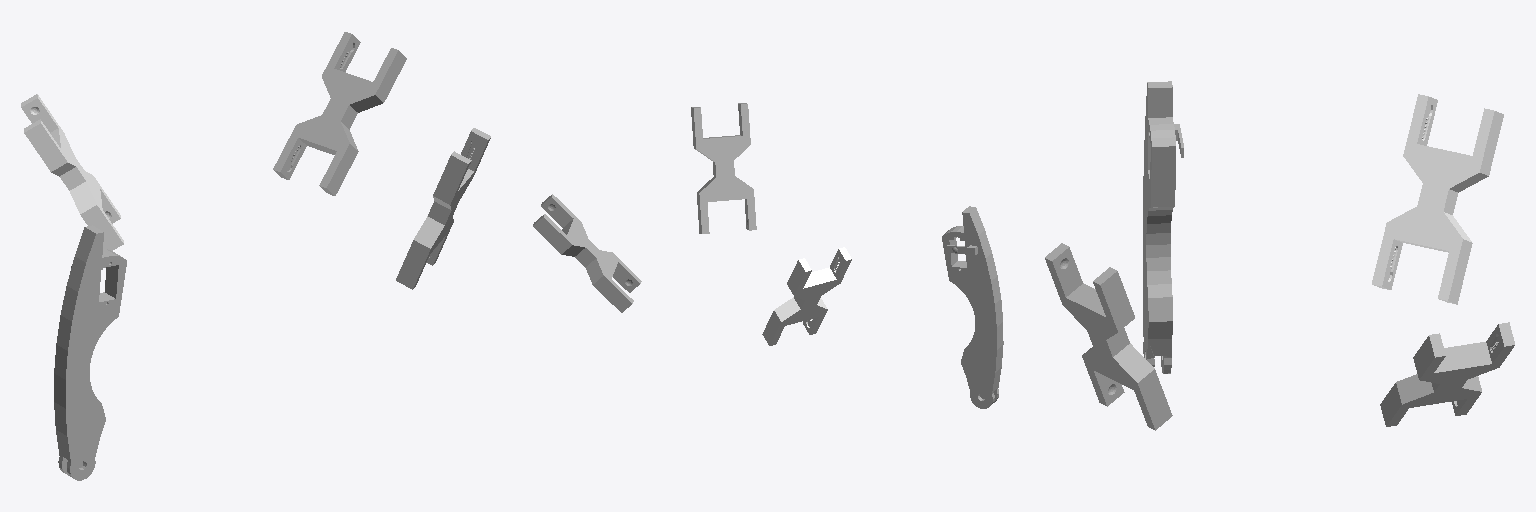
robot.urdf — FullAssemV2_URDF_4:
<?xml version="1.0" encoding="utf-8"?>
<!-- This URDF was automatically created by SolidWorks to URDF Exporter! Originally created by [author] ([email redacted]) 
     Commit Version: 1.5.1-0-g916b5db  Build Version: 1.5.7152.31018
     For more information, please see http://wiki.ros.org/sw_urdf_exporter -->
<robot
  name="FullAssemV2_URDF_4">
  <link
    name="Quadruped">
    <inertial>
      <origin
        xyz="-0.00015378 -0.0018543 0.0059831"
        rpy="0 0 0" />
      <mass
        value="0.2498" />
      <inertia
        ixx="0.00027052"
        ixy="-9.9718E-07"
        ixz="-2.9032E-06"
        iyy="0.00029671"
        iyz="1.828E-06"
        izz="0.00056127" />
    </inertial>
    <visual>
      <origin
        xyz="0 0 0"
        rpy="0 0 0" />
      <geometry>
        <mesh
          filename="package://FullAssemV2_URDF_4/meshes/Quadruped.STL" />
      </geometry>
      <material
        name="">
        <color
          rgba="0.75294 0.75294 0.75294 1" />
      </material>
    </visual>
    <collision>
      <origin
        xyz="0 0 0"
        rpy="0 0 0" />
      <geometry>
        <mesh
          filename="package://FullAssemV2_URDF_4/meshes/Quadruped.STL" />
      </geometry>
    </collision>
  </link>
  <link
    name="Thigh1_Link">
    <inertial>
      <origin
        xyz="-0.05457 0.014655 0.0029163"
        rpy="0 0 0" />
      <mass
        value="0.053996" />
      <inertia
        ixx="1.2958E-05"
        ixy="6.6702E-06"
        ixz="-2.6124E-08"
        iyy="2.2919E-05"
        iyz="-2.8182E-08"
        izz="2.4984E-05" />
    </inertial>
    <visual>
      <origin
        xyz="0 0 0"
        rpy="0 0 0" />
      <geometry>
        <mesh
          filename="package://FullAssemV2_URDF_4/meshes/Thigh1_Link.STL" />
      </geometry>
      <material
        name="">
        <color
          rgba="0.75294 0.75294 0.75294 1" />
      </material>
    </visual>
    <collision>
      <origin
        xyz="0 0 0"
        rpy="0 0 0" />
      <geometry>
        <mesh
          filename="package://FullAssemV2_URDF_4/meshes/Thigh1_Link.STL" />
      </geometry>
    </collision>
  </link>
  <joint
    name="Thigh1_Joint"
    type="revolute">
    <origin
      xyz="-0.039065 -0.053882 0"
      rpy="1.5708 0 0.098815" />
    <parent
      link="Quadruped" />
    <child
      link="Thigh1_Link" />
    <axis
      xyz="0 1 0" />
    <limit
      lower="0"
      upper="0"
      effort="0"
      velocity="0" />
  </joint>
  <link
    name="Shin1_Link">
    <inertial>
      <origin
        xyz="0.089293 0.00052424 0.12407"
        rpy="0 0 0" />
      <mass
        value="0.057893" />
      <inertia
        ixx="5.1911E-06"
        ixy="-1.6884E-07"
        ixz="-2.1135E-06"
        iyy="9.8478E-05"
        iyz="-1.0817E-08"
        izz="9.4822E-05" />
    </inertial>
    <visual>
      <origin
        xyz="0 0 0"
        rpy="0 0 0" />
      <geometry>
        <mesh
          filename="package://FullAssemV2_URDF_4/meshes/Shin1_Link.STL" />
      </geometry>
      <material
        name="">
        <color
          rgba="0.75294 0.75294 0.75294 1" />
      </material>
    </visual>
    <collision>
      <origin
        xyz="0 0 0"
        rpy="0 0 0" />
      <geometry>
        <mesh
          filename="package://FullAssemV2_URDF_4/meshes/Shin1_Link.STL" />
      </geometry>
    </collision>
  </link>
  <joint
    name="Shin1_Joint"
    type="revolute">
    <origin
      xyz="0 0.078226 0"
      rpy="1.5708 0 -1.6593" />
    <parent
      link="Thigh1_Link" />
    <child
      link="Shin1_Link" />
    <axis
      xyz="0.99609 0 -0.088356" />
    <limit
      lower="0"
      upper="0"
      effort="0"
      velocity="0" />
  </joint>
  <link
    name="Foot1_Link">
    <inertial>
      <origin
        xyz="-0.0217800760075205 0.141583477691689 0.000158750549140413"
        rpy="0 0 0" />
      <mass
        value="0.00914057897642938" />
      <inertia
        ixx="1.43388059300199E-06"
        ixy="6.66353810967671E-08"
        ixz="1.91616126822275E-14"
        iyy="7.41969158641372E-07"
        iyz="-1.28331133251381E-13"
        izz="1.33502935768451E-06" />
    </inertial>
    <visual>
      <origin
        xyz="0 0 0"
        rpy="0 0 0" />
      <geometry>
        <mesh
          filename="package://FullAssemV2_URDF_4/meshes/Foot1_Link.STL" />
      </geometry>
      <material
        name="">
        <color
          rgba="0.792156862745098 0.819607843137255 0.933333333333333 1" />
      </material>
    </visual>
    <collision>
      <origin
        xyz="0 0 0"
        rpy="0 0 0" />
      <geometry>
        <mesh
          filename="package://FullAssemV2_URDF_4/meshes/Foot1_Link.STL" />
      </geometry>
    </collision>
  </link>
  <joint
    name="foot1_Joint"
    type="revolute">
    <origin
      xyz="0.15134 0 -0.013424"
      rpy="1.5708 -0.088471 -3.1416" />
    <parent
      link="Shin1_Link" />
    <child
      link="Foot1_Link" />
    <axis
      xyz="1 0 0" />
    <limit
      lower="0"
      upper="0"
      effort="0"
      velocity="0" />
  </joint>
  <link
    name="Thigh2_Link">
    <inertial>
      <origin
        xyz="-0.0428381524018848 0.0254412620695966 0.00291630750541005"
        rpy="0 0 0" />
      <mass
        value="0.0539963748486514" />
      <inertia
        ixx="2.40390897727573E-05"
        ixy="5.73770232855066E-06"
        ixz="-2.63824184024176E-08"
        iyy="1.18386855486503E-05"
        iyz="-2.84200308039387E-08"
        izz="2.49843293297085E-05" />
    </inertial>
    <visual>
      <origin
        xyz="0 0 0"
        rpy="0 0 0" />
      <geometry>
        <mesh
          filename="package://FullAssemV2_URDF_4/meshes/Thigh2_Link.STL" />
      </geometry>
      <material
        name="">
        <color
          rgba="0.752941176470588 0.752941176470588 0.752941176470588 1" />
      </material>
    </visual>
    <collision>
      <origin
        xyz="0 0 0"
        rpy="0 0 0" />
      <geometry>
        <mesh
          filename="package://FullAssemV2_URDF_4/meshes/Thigh2_Link.STL" />
      </geometry>
    </collision>
  </link>
  <joint
    name="Thigh2_Joint"
    type="revolute">
    <origin
      xyz="0.039065 -0.053882 0"
      rpy="1.5708 0 2.2782" />
    <parent
      link="Quadruped" />
    <child
      link="Thigh2_Link" />
    <axis
      xyz="0 1 0" />
    <limit
      lower="0"
      upper="0"
      effort="0"
      velocity="0" />
  </joint>
  <link
    name="Shin2_Link">
    <inertial>
      <origin
        xyz="-0.0296585034791133 0.000524244197710577 0.135544040173049"
        rpy="0 0 0" />
      <mass
        value="0.0578934415117151" />
      <inertia
        ixx="5.18978396145588E-06"
        ixy="-1.68960442129842E-07"
        ixz="-2.11274764965037E-06"
        iyy="9.84784530729361E-05"
        iyz="-1.0888527999984E-08"
        izz="9.48234932501909E-05" />
    </inertial>
    <visual>
      <origin
        xyz="0 0 0"
        rpy="0 0 0" />
      <geometry>
        <mesh
          filename="package://FullAssemV2_URDF_4/meshes/Shin2_Link.STL" />
      </geometry>
      <material
        name="">
        <color
          rgba="0.752941176470588 0.752941176470588 0.752941176470588 1" />
      </material>
    </visual>
    <collision>
      <origin
        xyz="0 0 0"
        rpy="0 0 0" />
      <geometry>
        <mesh
          filename="package://FullAssemV2_URDF_4/meshes/Shin2_Link.STL" />
      </geometry>
    </collision>
  </link>
  <joint
    name="Shin2_Joint"
    type="revolute">
    <origin
      xyz="0 -0.040937 0"
      rpy="1.5708 0 -2.095" />
    <parent
      link="Thigh2_Link" />
    <child
      link="Shin2_Link" />
    <axis
      xyz="0.86575 0 -0.50048" />
    <limit
      lower="0"
      upper="0"
      effort="0"
      velocity="0" />
  </joint>
  <link
    name="Foot2_Link">
    <inertial>
      <origin
        xyz="0.00616009871733274 0.147432180380511 0.000158751367519597"
        rpy="0 0 0" />
      <mass
        value="0.00914057905747705" />
      <inertia
        ixx="1.43388058850935E-06"
        ixy="6.66354888171239E-08"
        ixz="9.08725546167629E-14"
        iyy="7.41969157898052E-07"
        iyz="-1.18456942462896E-13"
        izz="1.33502935366218E-06" />
    </inertial>
    <visual>
      <origin
        xyz="0 0 0"
        rpy="0 0 0" />
      <geometry>
        <mesh
          filename="package://FullAssemV2_URDF_4/meshes/Foot2_Link.STL" />
      </geometry>
      <material
        name="">
        <color
          rgba="0.792156862745098 0.819607843137255 0.933333333333333 1" />
      </material>
    </visual>
    <collision>
      <origin
        xyz="0 0 0"
        rpy="0 0 0" />
      <geometry>
        <mesh
          filename="package://FullAssemV2_URDF_4/meshes/Foot2_Link.STL" />
      </geometry>
    </collision>
  </link>
  <joint
    name="Foot2_Joint"
    type="revolute">
    <origin
      xyz="-0.0021858 0 0.0012636"
      rpy="1.5708 -0.52416 3.1416" />
    <parent
      link="Shin2_Link" />
    <child
      link="Foot2_Link" />
    <axis
      xyz="1 0 0" />
    <limit
      lower="0"
      upper="0"
      effort="0"
      velocity="0" />
  </joint>
  <link
    name="Thigh3_Link">
    <inertial>
      <origin
        xyz="-0.0504817372319407 0.0203729902968304 0.00291630785274938"
        rpy="0 0 0" />
      <mass
        value="0.0539963764620715" />
      <inertia
        ixx="1.78639039082575E-05"
        ixy="8.34687131364102E-06"
        ixz="-2.62138296252775E-08"
        iyy="1.80138715206399E-05"
        iyz="-2.83082687947387E-08"
        izz="2.49843294019783E-05" />
    </inertial>
    <visual>
      <origin
        xyz="0 0 0"
        rpy="0 0 0" />
      <geometry>
        <mesh
          filename="package://FullAssemV2_URDF_4/meshes/Thigh3_Link.STL" />
      </geometry>
      <material
        name="">
        <color
          rgba="0.752941176470588 0.752941176470588 0.752941176470588 1" />
      </material>
    </visual>
    <collision>
      <origin
        xyz="0 0 0"
        rpy="0 0 0" />
      <geometry>
        <mesh
          filename="package://FullAssemV2_URDF_4/meshes/Thigh3_Link.STL" />
      </geometry>
    </collision>
  </link>
  <joint
    name="Thigh3_Joint"
    type="revolute">
    <origin
      xyz="0.039433 0.05348 0"
      rpy="1.5708 0 -2.7838" />
    <parent
      link="Quadruped" />
    <child
      link="Thigh3_Link" />
    <axis
      xyz="0 1 0" />
    <limit
      lower="0"
      upper="0"
      effort="0"
      velocity="0" />
  </joint>
  <link
    name="Shin3_Link">
    <inertial>
      <origin
        xyz="-0.0175951894874295 0.000524246245149712 0.161105963795723"
        rpy="0 0 0" />
      <mass
        value="0.057893440995455" />
      <inertia
        ixx="5.19137301285778E-06"
        ixy="-1.68786390238158E-07"
        ixz="-2.11391528928266E-06"
        iyy="9.84784530549523E-05"
        iyz="-1.08004113969907E-08"
        izz="9.48219041879124E-05" />
    </inertial>
    <visual>
      <origin
        xyz="0 0 0"
        rpy="0 0 0" />
      <geometry>
        <mesh
          filename="package://FullAssemV2_URDF_4/meshes/Shin3_Link.STL" />
      </geometry>
      <material
        name="">
        <color
          rgba="0.752941176470588 0.752941176470588 0.752941176470588 1" />
      </material>
    </visual>
    <collision>
      <origin
        xyz="0 0 0"
        rpy="0 0 0" />
      <geometry>
        <mesh
          filename="package://FullAssemV2_URDF_4/meshes/Shin3_Link.STL" />
      </geometry>
    </collision>
  </link>
  <joint
    name="Shin3_Joint"
    type="revolute">
    <origin
      xyz="0 -0.061738 0"
      rpy="1.5708 0 -2.0801" />
    <parent
      link="Thigh3_Link" />
    <child
      link="Shin3_Link" />
    <axis
      xyz="0.87309 0 -0.48756" />
    <limit
      lower="0"
      upper="0"
      effort="0"
      velocity="0" />
  </joint>
  <link
    name="Foot3_Link">
    <inertial>
      <origin
        xyz="0.00616010644032098 0.175922034961037 0.000158757918696607"
        rpy="0 0 0" />
      <mass
        value="0.00914057903727103" />
      <inertia
        ixx="1.43388054325383E-06"
        ixy="6.66354691405119E-08"
        ixz="4.07491870309494E-13"
        iyy="7.41969110605252E-07"
        iyz="-1.34870054730054E-13"
        izz="1.33502935775728E-06" />
    </inertial>
    <visual>
      <origin
        xyz="0 0 0"
        rpy="0 0 0" />
      <geometry>
        <mesh
          filename="package://FullAssemV2_URDF_4/meshes/Foot3_Link.STL" />
      </geometry>
      <material
        name="">
        <color
          rgba="0.792156862745098 0.819607843137255 0.933333333333333 1" />
      </material>
    </visual>
    <collision>
      <origin
        xyz="0 0 0"
        rpy="0 0 0" />
      <geometry>
        <mesh
          filename="package://FullAssemV2_URDF_4/meshes/Foot3_Link.STL" />
      </geometry>
    </collision>
  </link>
  <joint
    name="Foot3_Joint"
    type="revolute">
    <origin
      xyz="-0.0020101 0 0.0011225"
      rpy="1.5708 -0.5093 3.1416" />
    <parent
      link="Shin3_Link" />
    <child
      link="Foot3_Link" />
    <axis
      xyz="1 0 0" />
    <limit
      lower="0"
      upper="0"
      effort="0"
      velocity="0" />
  </joint>
  <link
    name="Thigh4_Link">
    <inertial>
      <origin
        xyz="0 0 0"
        rpy="0 0 0" />
      <mass
        value="0" />
      <inertia
        ixx="0"
        ixy="0"
        ixz="0"
        iyy="0"
        iyz="0"
        izz="0" />
    </inertial>
    <visual>
      <origin
        xyz="0 0 0"
        rpy="0 0 0" />
      <geometry>
        <mesh
          filename="package://FullAssemV2_URDF_4/meshes/Thigh4_Link.STL" />
      </geometry>
      <material
        name="">
        <color
          rgba="1 1 1 1" />
      </material>
    </visual>
    <collision>
      <origin
        xyz="0 0 0"
        rpy="0 0 0" />
      <geometry>
        <mesh
          filename="package://FullAssemV2_URDF_4/meshes/Thigh4_Link.STL" />
      </geometry>
    </collision>
  </link>
  <joint
    name="Thigh4_Joint"
    type="revolute">
    <origin
      xyz="-0.039433 0.05348 0"
      rpy="1.5708 0 -0.47257" />
    <parent
      link="Quadruped" />
    <child
      link="Thigh4_Link" />
    <axis
      xyz="0 1 0" />
    <limit
      lower="0"
      upper="0"
      effort="0"
      velocity="0" />
  </joint>
  <link
    name="Shin4_Link">
    <inertial>
      <origin
        xyz="-0.0698472499239852 0.000524248293319301 0.12515038497311"
        rpy="0 0 0" />
      <mass
        value="0.0578934415358728" />
      <inertia
        ixx="5.18920740356159E-06"
        ixy="-1.69002634475393E-07"
        ixz="-2.11267767635326E-06"
        iyy="9.84784530927473E-05"
        iyz="-1.0925957137173E-08"
        izz="9.48240698537139E-05" />
    </inertial>
    <visual>
      <origin
        xyz="0 0 0"
        rpy="0 0 0" />
      <geometry>
        <mesh
          filename="package://FullAssemV2_URDF_4/meshes/Shin4_Link.STL" />
      </geometry>
      <material
        name="">
        <color
          rgba="0.752941176470588 0.752941176470588 0.752941176470588 1" />
      </material>
    </visual>
    <collision>
      <origin
        xyz="0 0 0"
        rpy="0 0 0" />
      <geometry>
        <mesh
          filename="package://FullAssemV2_URDF_4/meshes/Shin4_Link.STL" />
      </geometry>
    </collision>
  </link>
  <joint
    name="Shin4_Joint"
    type="revolute">
    <origin
      xyz="0 -0.058914 0"
      rpy="1.5708 0 -1.8089" />
    <parent
      link="Thigh4_Link" />
    <child
      link="Shin4_Link" />
    <axis
      xyz="0.9718 0 -0.23582" />
    <limit
      lower="0"
      upper="0"
      effort="0"
      velocity="0" />
  </joint>
  <link
    name="Foot4_Link">
    <inertial>
      <origin
        xyz="0.00616013961085539 0.127708470173728 0.000158743643449099"
        rpy="0 0 0" />
      <mass
        value="0.00914057907848054" />
      <inertia
        ixx="1.43388047627197E-06"
        ixy="6.66354983920581E-08"
        ixz="-7.44155415370138E-13"
        iyy="7.41969046146568E-07"
        iyz="-1.09981926939391E-13"
        izz="1.33502934802945E-06" />
    </inertial>
    <visual>
      <origin
        xyz="0 0 0"
        rpy="0 0 0" />
      <geometry>
        <mesh
          filename="package://FullAssemV2_URDF_4/meshes/Foot4_Link.STL" />
      </geometry>
      <material
        name="">
        <color
          rgba="0.792156862745098 0.819607843137255 0.933333333333333 1" />
      </material>
    </visual>
    <collision>
      <origin
        xyz="0 0 0"
        rpy="0 0 0" />
      <geometry>
        <mesh
          filename="package://FullAssemV2_URDF_4/meshes/Foot4_Link.STL" />
      </geometry>
    </collision>
  </link>
  <joint
    name="Foot4_Joint"
    type="revolute">
    <origin
      xyz="0.0024137 0 -0.00058572"
      rpy="1.5708 -0.23806 3.1416" />
    <parent
      link="Shin4_Link" />
    <child
      link="Foot4_Link" />
    <axis
      xyz="1 0 0" />
    <limit
      lower="0"
      upper="0"
      effort="0"
      velocity="0" />
  </joint>
</robot>

--- Facts derived from the render (not from the file) ---
The picture shows the robot from 3 angles, left to right: view 1: azimuth 30°, elevation 25°; view 2: azimuth 150°, elevation 25°; view 3: azimuth 270°, elevation 25°; orthographic projection.
Robot: FullAssemV2_URDF_4 — 13 links, 12 joints (12 revolute); root link Quadruped; default pose: every joint at zero.
Visible links, largest first — view 1: Shin1_Link, Thigh3_Link, Thigh4_Link, Thigh2_Link; view 2: Shin1_Link, Thigh3_Link, Thigh2_Link, Thigh4_Link; view 3: Thigh4_Link, Thigh2_Link, Shin1_Link, Thigh3_Link.
Link boxes in pixels (x1,y1,x2,y2): Shin1_Link: (54,225,126,480); Thigh3_Link: (273,32,406,195); Thigh4_Link: (21,94,123,250); Thigh2_Link: (396,128,490,289); Shin1_Link: (942,206,1003,408); Thigh3_Link: (533,194,641,312); Thigh2_Link: (691,103,756,233); Thigh4_Link: (762,247,851,345); Thigh4_Link: (1372,94,1503,304); Thigh2_Link: (1045,243,1172,430); Shin1_Link: (1143,81,1183,373); Thigh3_Link: (1380,322,1514,426).
Size in the robot's own frame: 0.3408 by 0.2437 by 0.1892 metres.
Meshes: 13 distinct files referenced, 4 mesh visuals loaded (4 binary STL); not drawn: 9 (reference not matched to a file when rendering).